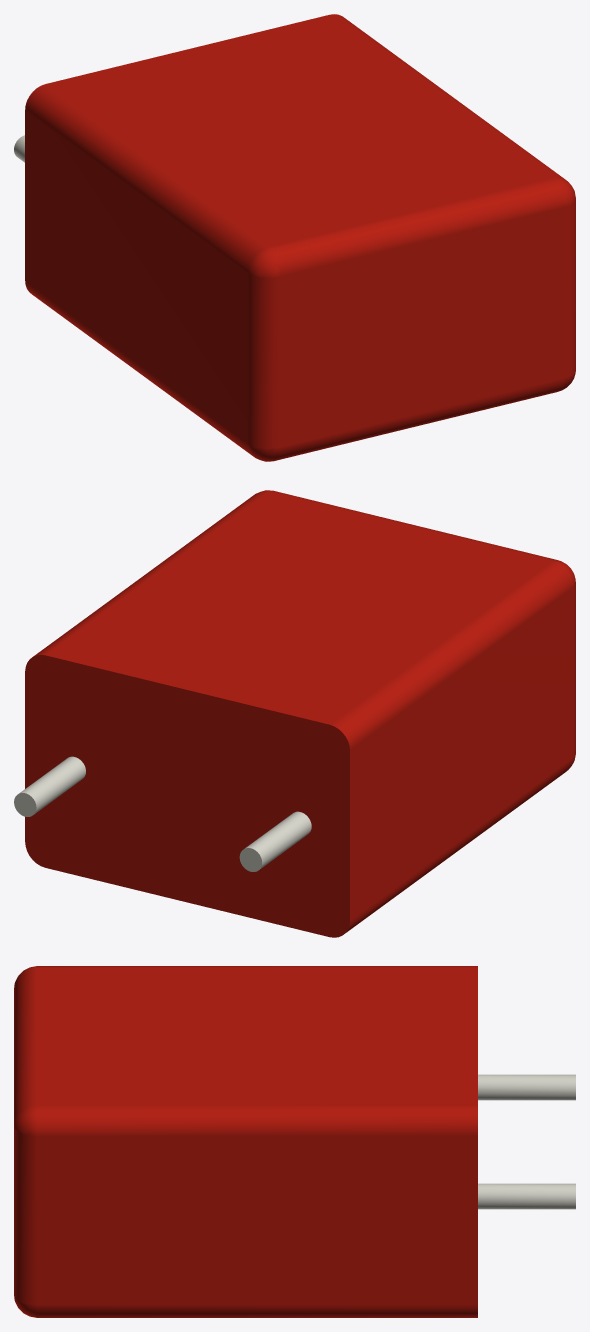
The model's file is c-rect-l7.2-w4.5-p5.00-fks2-fkp2-mks2-mkp2.glb.
3 renders of one model, top to bottom at view 1: azimuth 30°, elevation 25°; view 2: azimuth 150°, elevation 25°; view 3: azimuth 270°, elevation 25°, orthographic.
Parts seen in each view (by area): view 1: RED-BODY; view 2: RED-BODY, PIN-01; view 3: RED-BODY, PIN-01.
Boxes of the visible parts, x1,y1,x2,y2 form: RED-BODY: [25, 14, 575, 461]; RED-BODY: [25, 490, 575, 937]; PIN-01: [14, 756, 311, 871]; RED-BODY: [14, 966, 477, 1317]; PIN-01: [478, 1074, 575, 1209].
Size of the model in its own units: 7.2 by 4.5 by 10.9.
